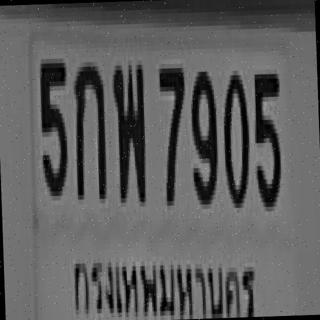A01: (71, 57, 105, 195)
A30: (112, 60, 146, 198)
N00: (220, 65, 250, 204)
N05: (251, 69, 282, 207), (37, 54, 68, 192)
N07: (157, 63, 187, 201)
N09: (188, 66, 217, 200)
P04: (65, 234, 260, 320)
